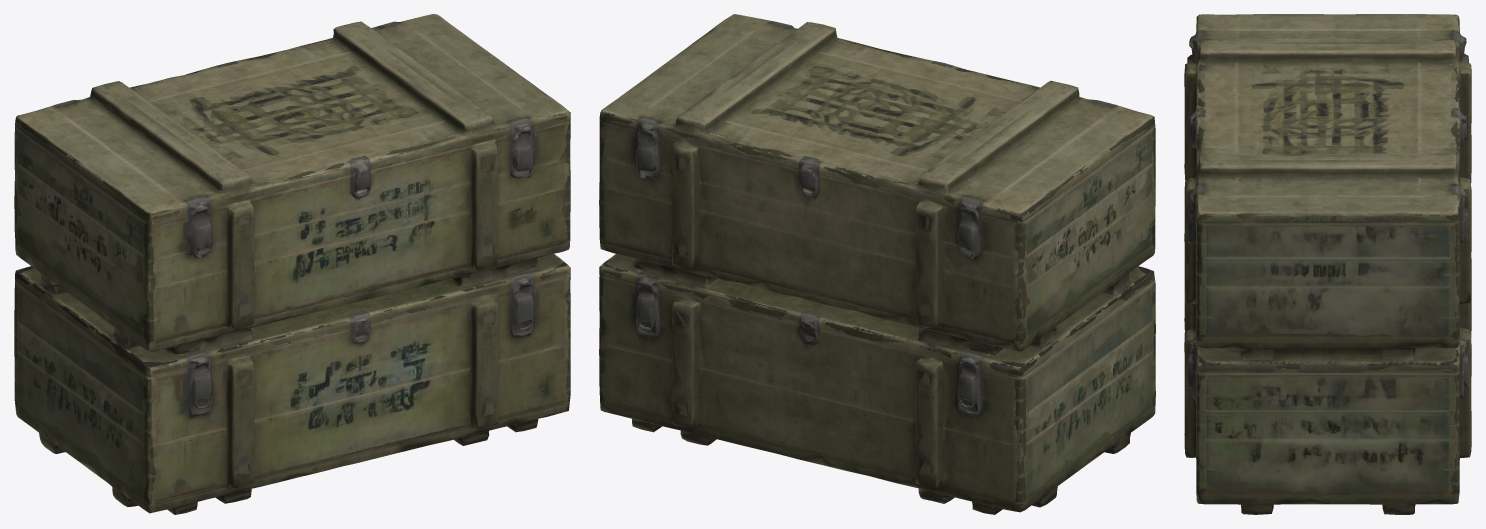
The model's file is prop_crate.glb.
3 renders of one model, left to right at view 1: azimuth 30°, elevation 25°; view 2: azimuth 150°, elevation 25°; view 3: azimuth 270°, elevation 25°, orthographic. The views are drawn at different scales.
Size of the model in its own units: 0.9979 by 0.7292 by 0.6017.
1 material, 1 textured.
